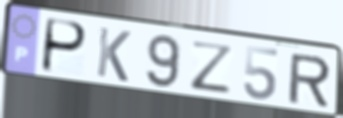5: (241, 44, 280, 102)
9: (143, 32, 183, 90)
K: (94, 25, 133, 85)
P: (39, 16, 90, 77)
R: (286, 52, 333, 108)
Z: (189, 39, 237, 96)
